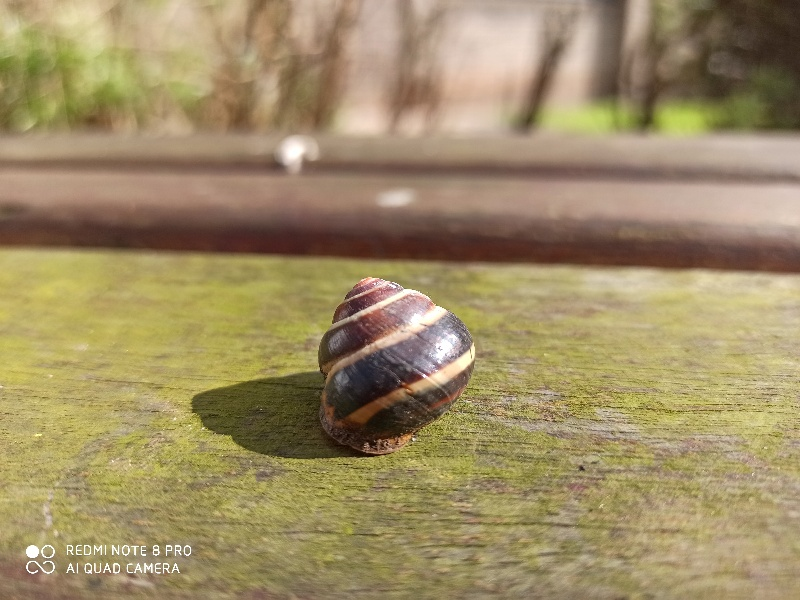snail_P_B: (316, 272, 483, 459)
